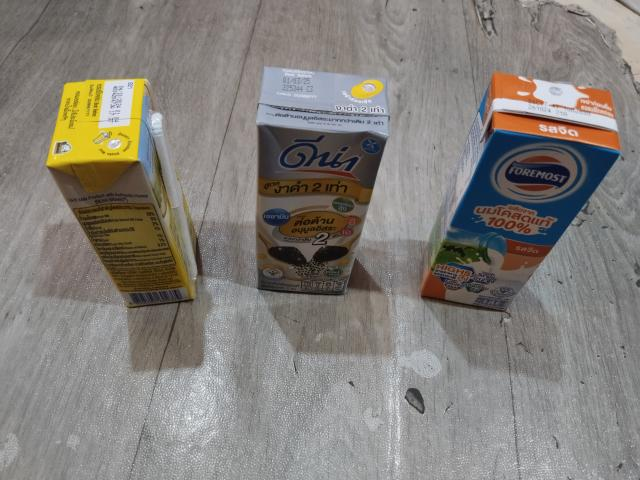drink_box: (414, 64, 628, 325), (39, 70, 208, 319), (250, 60, 388, 296)
